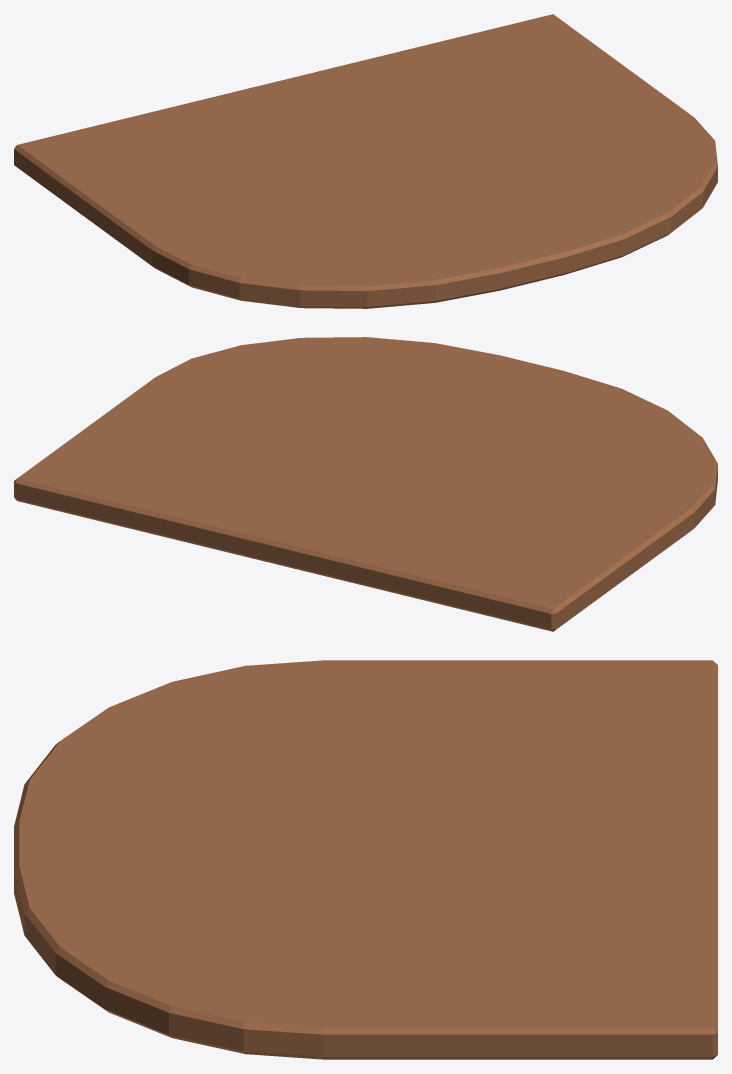
The model's file is gate_1.glb.
3 renders of one model, top to bottom at view 1: azimuth 30°, elevation 25°; view 2: azimuth 150°, elevation 25°; view 3: azimuth 270°, elevation 25°, orthographic. The views are drawn at different scales.
Visible parts, largest first — view 1: gate 1; view 2: gate 1; view 3: gate 1.
Part boxes in pixels (bbox=[...]): gate 1: bbox=[14, 14, 717, 308]; gate 1: bbox=[14, 337, 717, 631]; gate 1: bbox=[14, 660, 717, 1059].
Bounding box in the file's own units: 5 × 0.2 × 4.
